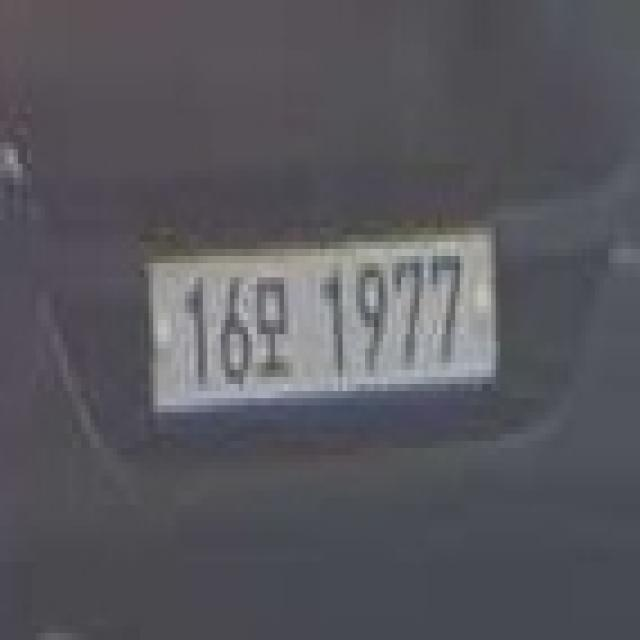1: (316, 256, 356, 391), (180, 270, 217, 398)
6: (216, 263, 257, 405)
7: (428, 242, 473, 370), (392, 249, 433, 370)
9: (352, 249, 392, 384)
license_plate: (131, 213, 514, 441)
mo: (252, 263, 302, 391)
